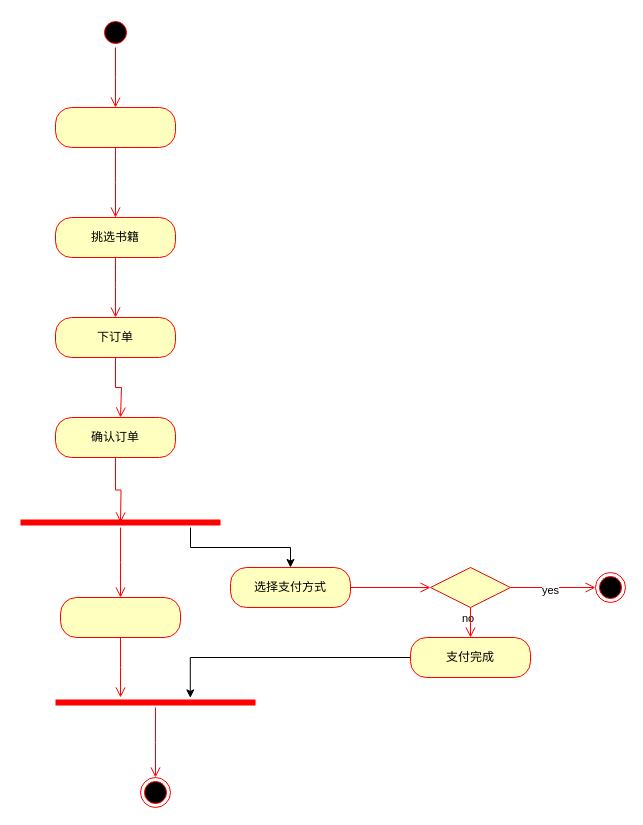
Some shapes in this 643 by 825 pixel diagram are drawn without their labels. Each missing label, with the centre of its shape:
"取消或超时" goes at [470,587].
"浏览界面" goes at [115,127].
"生成送货单" goes at [120,617].
